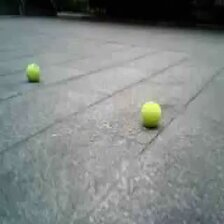tennis: (140, 101, 160, 127), (26, 64, 40, 81)
